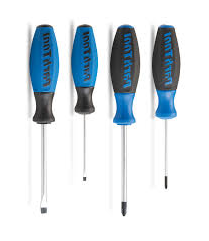Screwdriver: (19, 15, 63, 221), (108, 12, 148, 232), (151, 19, 190, 206), (67, 20, 103, 193)
